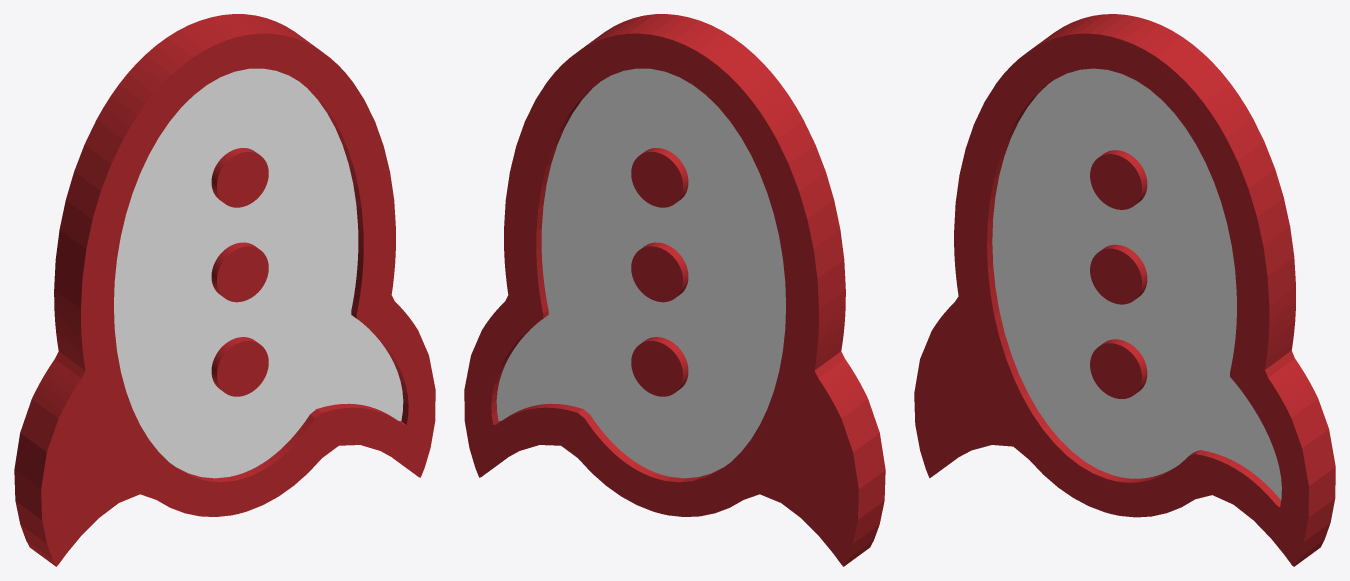
The model's file is Rocket.Chat.obj.
3 renders of one model, left to right at view 1: azimuth 30°, elevation 25°; view 2: azimuth 150°, elevation 25°; view 3: azimuth 330°, elevation 25°, orthographic.
Visible parts, largest first — view 1: Mesh1 Group1 Model; view 2: Mesh1 Group1 Model; view 3: Mesh1 Group1 Model.
Part boxes in pixels (x1,y1,x2,y2): Mesh1 Group1 Model: (14,14,435,566); Mesh1 Group1 Model: (464,14,885,566); Mesh1 Group1 Model: (914,14,1335,566).
Size of the model in its own units: 85.07 by 100 by 10.
